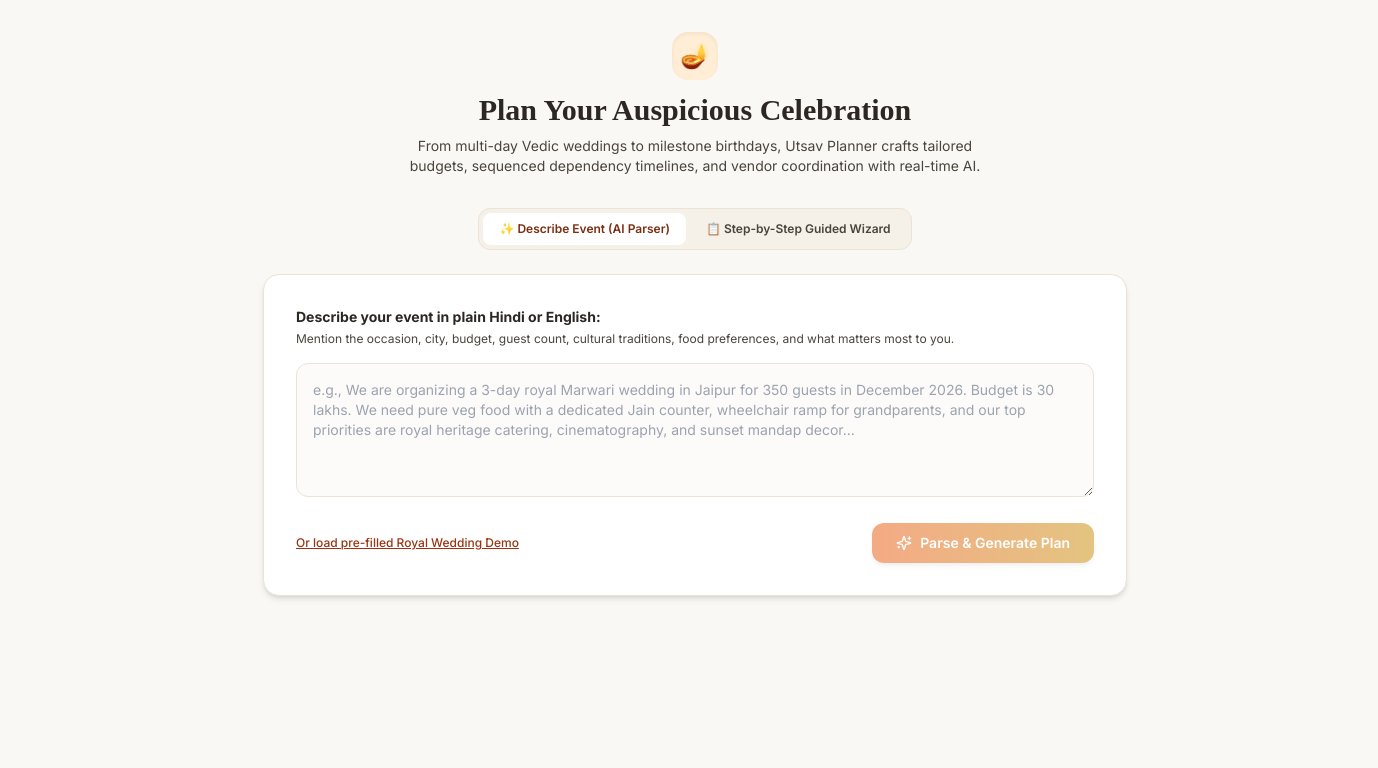
Scenario: OnboardingWizard Component › allows loading pre-filled royal wedding demo directly from free-text tab
Click the button "Or load pre-filled Royal Wedding Demo".
click(407, 543)  # box 296,535 -> 519,551
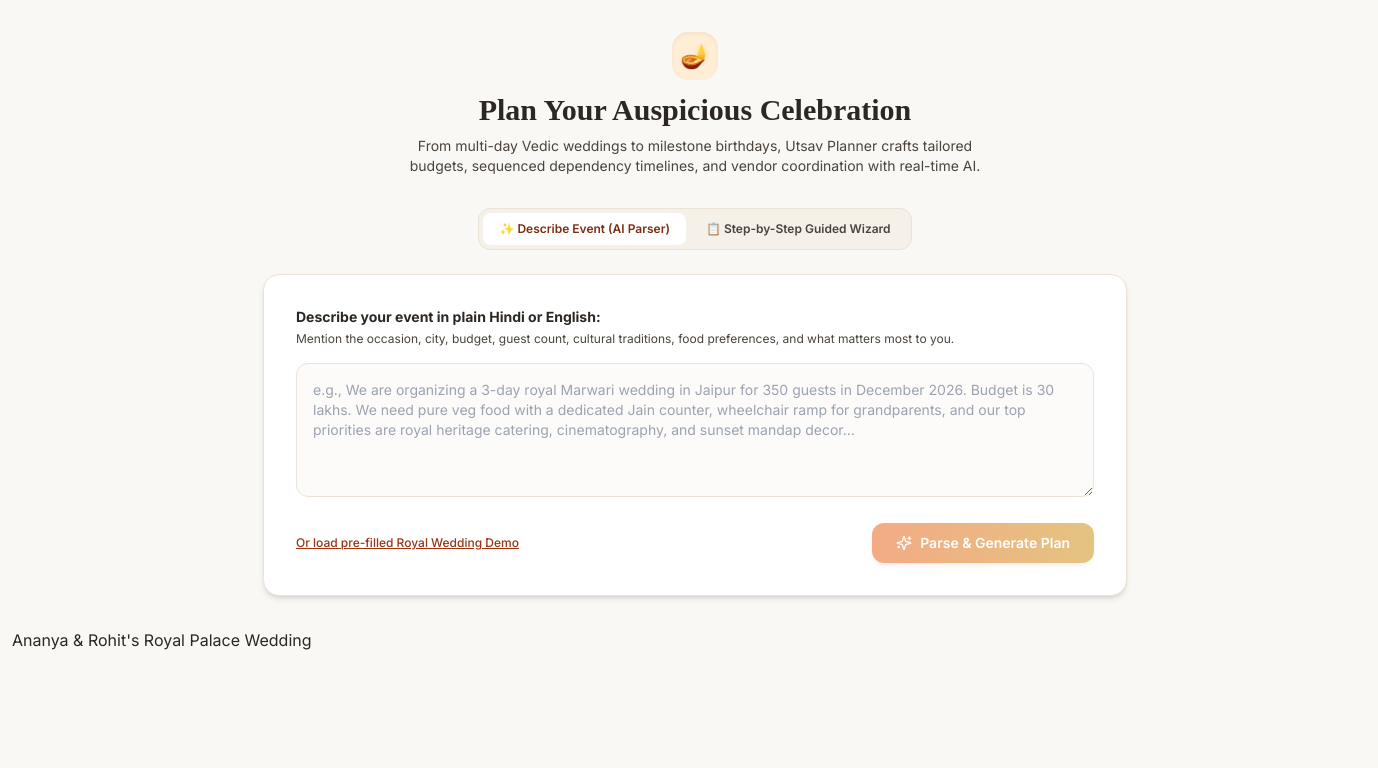
Expected: the text with test id "demo-title" reads "Ananya & Rohit's Royal Palace Wedding", 12,630 -> 312,650
